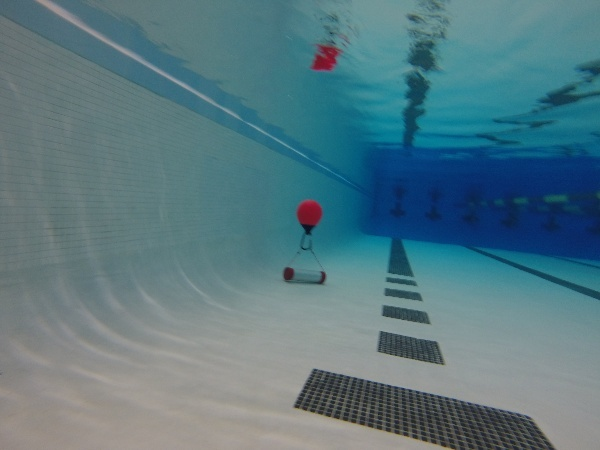buoy_red: (295, 200, 322, 235)
